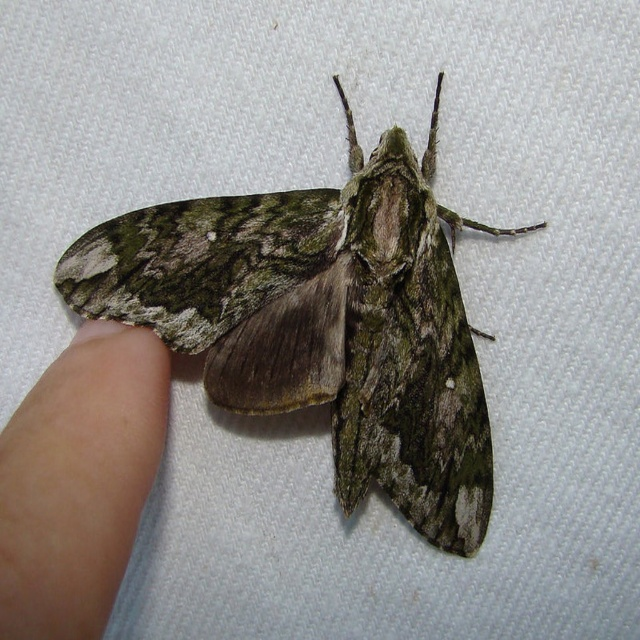Butterfly: (54, 71, 546, 554)
